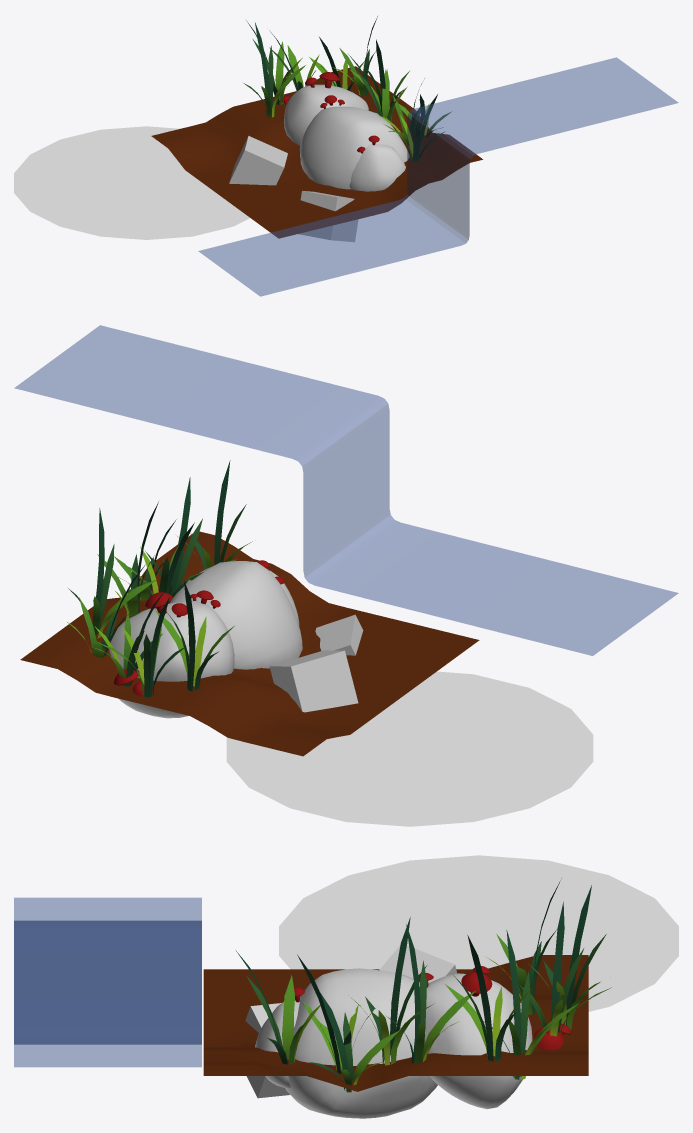
The picture shows the model from 3 angles, top to bottom: view 1: azimuth 30°, elevation 25°; view 2: azimuth 150°, elevation 25°; view 3: azimuth 270°, elevation 25°; orthographic projection. The views are drawn at different scales.
Parts seen in each view (by area): view 1: Plane001, sol, Group001, pierre, pierre002, boite_wlp001, pierre001, Cylinder001, boite_wlp, herbe002, herbe005, herbe007 (+6 smaller); view 2: Plane001, Group001, sol, pierre, pierre002, boite_wlp001, Cylinder001, herbe002, herbe009, herbe006, boite_wlp, herbe005 (+5 smaller); view 3: Group001, Plane001, sol, pierre, pierre002, Cylinder001, herbe009, herbe003, herbe007, herbe, herbe005, herbe008 (+9 smaller).
Part boxes in pixels (x1,y1,x2,y2): Plane001: [198, 57, 678, 296]; sol: [151, 66, 482, 238]; Group001: [17, 129, 245, 237]; pierre: [299, 106, 409, 189]; pierre002: [284, 84, 368, 145]; boite_wlp001: [229, 136, 287, 185]; pierre001: [349, 144, 405, 191]; Cylinder001: [14, 126, 249, 239]; boite_wlp: [298, 191, 358, 242]; herbe002: [243, 22, 305, 117]; herbe005: [384, 94, 444, 161]; herbe007: [348, 54, 407, 121]; Plane001: [14, 325, 678, 655]; Group001: [238, 675, 588, 823]; sol: [20, 531, 479, 756]; pierre: [170, 561, 302, 669]; pierre002: [109, 601, 234, 718]; boite_wlp001: [269, 650, 358, 712]; Cylinder001: [226, 671, 593, 826]; herbe002: [154, 580, 234, 691]; herbe009: [68, 508, 156, 638]; herbe006: [99, 597, 186, 697]; boite_wlp: [315, 614, 363, 655]; herbe005: [177, 460, 252, 569]; Group001: [288, 857, 669, 1004]; Plane001: [14, 897, 201, 1067]; sol: [203, 955, 588, 1091]; pierre: [285, 968, 437, 1118]; pierre002: [424, 973, 532, 1109]; Cylinder001: [279, 855, 678, 1011]; herbe009: [445, 935, 531, 1061]; herbe003: [387, 924, 475, 1063]; herbe007: [348, 917, 433, 1065]; herbe: [483, 930, 579, 1079]; herbe005: [236, 951, 320, 1064]; herbe008: [519, 901, 611, 1036].
Bounding box in the file's own units: 331 × 101 × 256.
